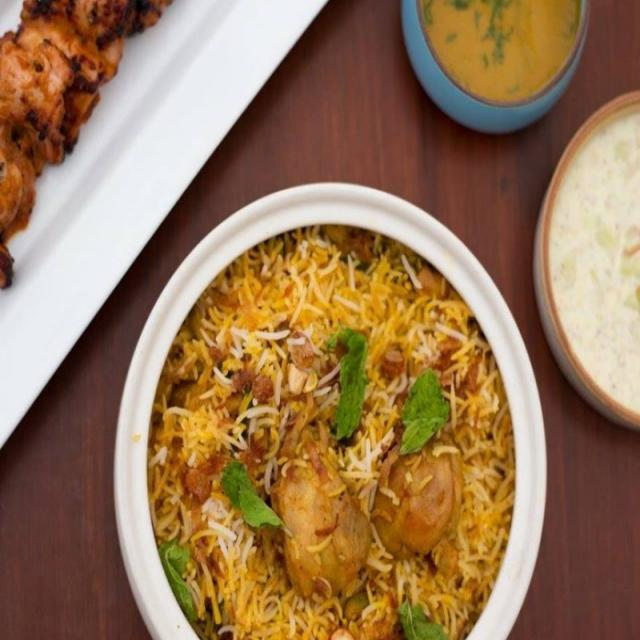Biryani: (139, 219, 507, 639)
